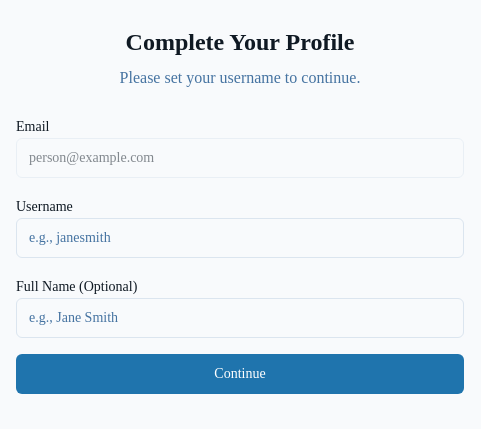
Test: profile completion › shows a useful message when the username is already taken
Type "new-user" into the field labelled "Username" at (240, 238), box x1=16 y1=218 x2=464 y2=258
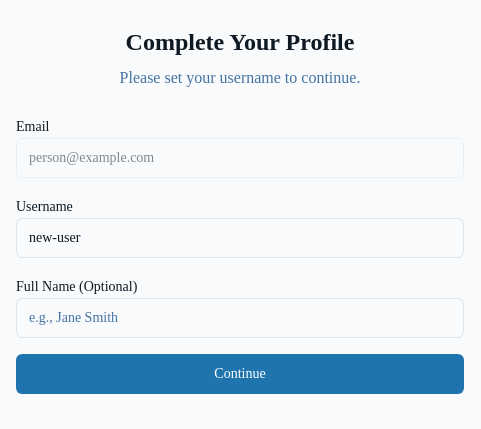
Click the button "Continue" at (240, 374), box x1=16 y1=354 x2=464 y2=394
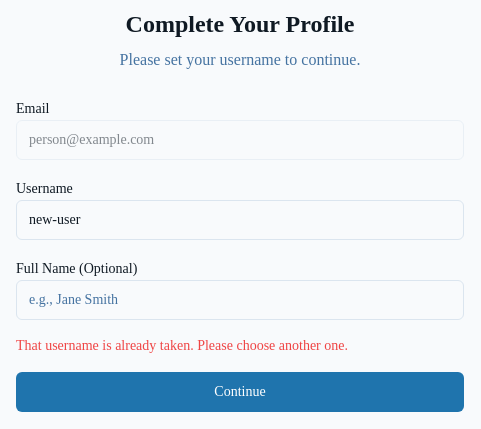
Expected: the button "Continue" is enabled, x1=16 y1=372 x2=464 y2=412
Expected: the message reads "That username is already taken. Please choose another one.", x1=16 y1=338 x2=348 y2=353
